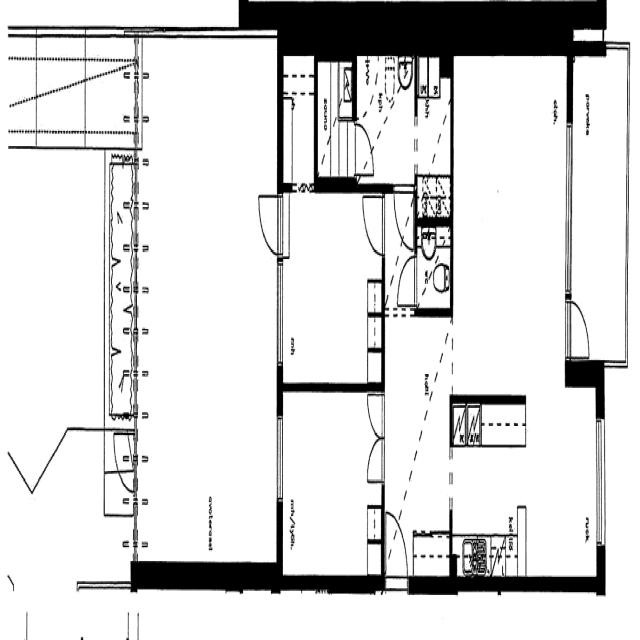door: (392, 184, 415, 280), (110, 428, 138, 502), (256, 188, 287, 254), (383, 511, 408, 587), (564, 292, 591, 360), (366, 388, 384, 488), (360, 188, 386, 256), (352, 119, 376, 179), (397, 252, 418, 310)
window: (564, 125, 576, 299), (595, 421, 607, 554), (276, 258, 284, 369), (275, 414, 284, 507), (133, 326, 139, 383), (134, 212, 138, 258)
zone: (135, 24, 276, 586), (451, 29, 579, 571), (0, 141, 110, 480), (452, 397, 596, 578), (281, 184, 382, 387), (280, 389, 385, 583), (383, 301, 450, 579), (355, 49, 417, 184), (36, 25, 87, 147), (86, 32, 138, 147), (416, 54, 452, 218), (316, 54, 354, 178), (280, 52, 315, 184), (415, 220, 451, 308)
